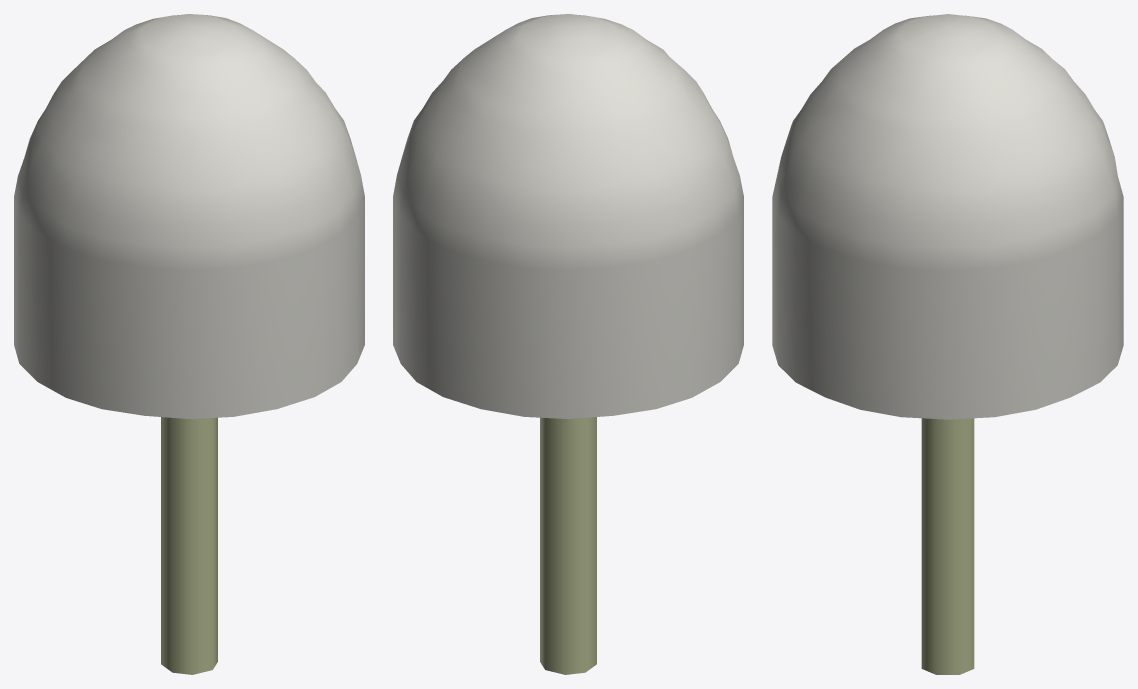
Rendered from ConvallariaMajalis.glb.
3 renders of one model, left to right at view 1: azimuth 30°, elevation 25°; view 2: azimuth 150°, elevation 25°; view 3: azimuth 270°, elevation 25°, orthographic.
Parts seen in each view (by area): view 1: Lily_Of_The_Valley__Schematic_LOD3; view 2: Lily_Of_The_Valley__Schematic_LOD3; view 3: Lily_Of_The_Valley__Schematic_LOD3.
Boxes of the visible parts, box(x1,y1,x2,y2) form: Lily_Of_The_Valley__Schematic_LOD3: box(14, 14, 364, 674); Lily_Of_The_Valley__Schematic_LOD3: box(393, 14, 743, 674); Lily_Of_The_Valley__Schematic_LOD3: box(772, 14, 1123, 674).
Bounding box in the file's own units: 0.12 × 0.24 × 0.12.
